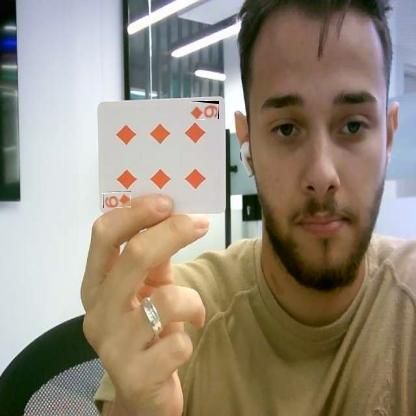6D: (190, 101, 219, 119), (103, 191, 131, 208)
